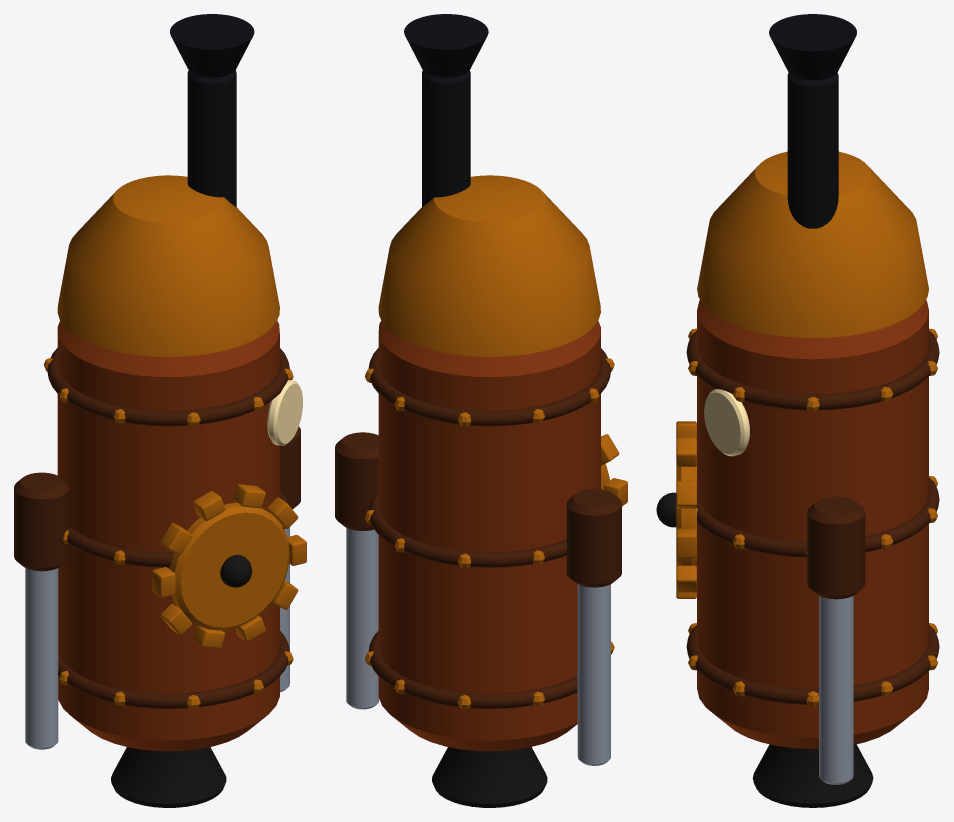
File: Rocket_21_Steampunk.obj
3 views of the same model, side by side, from view 1: azimuth 30°, elevation 25°; view 2: azimuth 150°, elevation 25°; view 3: azimuth 270°, elevation 25° (orthographic). The views are drawn at different scales.
Parts seen in each view (by area): view 1: R21_Boiler, R21_Dome, R21_Gear, R21_Chimney, R21_Piston_2, R21_Nozzle, R21_PistonHousing_2, R21_ChimneyTop, R21_RivetBand_3, R21_RivetBand, R21_Gauge, R21_RivetBand_2 (+10 smaller); view 2: R21_Boiler, R21_Dome, R21_Piston_2, R21_Chimney, R21_Nozzle, R21_Piston, R21_PistonHousing_2, R21_ChimneyTop, R21_RivetBand_3, R21_PistonHousing, R21_RivetBand, R21_RivetBand_2; view 3: R21_Boiler, R21_Dome, R21_Chimney, R21_Piston, R21_PistonHousing, R21_Nozzle, R21_ChimneyTop, R21_RivetBand_3, R21_RivetBand, R21_RivetBand_2, R21_Gauge, R21_Gear (+5 smaller).
Part boxes in pixels (x1,y1,x2,y2): R21_Boiler: [57, 320, 279, 751]; R21_Dome: [57, 175, 279, 356]; R21_Gear: [170, 502, 289, 630]; R21_Chimney: [187, 70, 236, 207]; R21_Piston_2: [25, 568, 58, 749]; R21_Nozzle: [111, 747, 226, 807]; R21_PistonHousing_2: [14, 472, 69, 571]; R21_ChimneyTop: [170, 14, 254, 77]; R21_RivetBand_3: [47, 348, 289, 426]; R21_RivetBand: [58, 631, 289, 708]; R21_Gauge: [267, 380, 302, 445]; R21_RivetBand_2: [67, 489, 288, 567]; R21_Boiler: [378, 320, 600, 751]; R21_Dome: [378, 175, 600, 356]; R21_Piston_2: [577, 584, 610, 765]; R21_Chimney: [422, 70, 470, 206]; R21_Nozzle: [432, 747, 547, 807]; R21_Piston: [346, 528, 379, 709]; R21_PistonHousing_2: [566, 489, 621, 587]; R21_ChimneyTop: [404, 14, 488, 77]; R21_RivetBand_3: [368, 348, 610, 426]; R21_PistonHousing: [335, 432, 378, 530]; R21_RivetBand: [368, 631, 577, 708]; R21_RivetBand_2: [368, 494, 567, 567]; R21_Boiler: [697, 300, 928, 748]; R21_Dome: [697, 151, 928, 338]; R21_Chimney: [787, 73, 838, 228]; R21_Piston: [819, 596, 853, 784]; R21_PistonHousing: [807, 496, 865, 599]; R21_Nozzle: [752, 744, 873, 807]; R21_ChimneyTop: [769, 14, 856, 80]; R21_RivetBand_3: [686, 330, 939, 410]; R21_RivetBand: [686, 625, 939, 704]; R21_RivetBand_2: [697, 478, 939, 557]; R21_Gauge: [704, 389, 749, 456]; R21_Gear: [676, 465, 696, 566].
Size of the model in its own units: 2.9 by 7.35 by 2.44.
